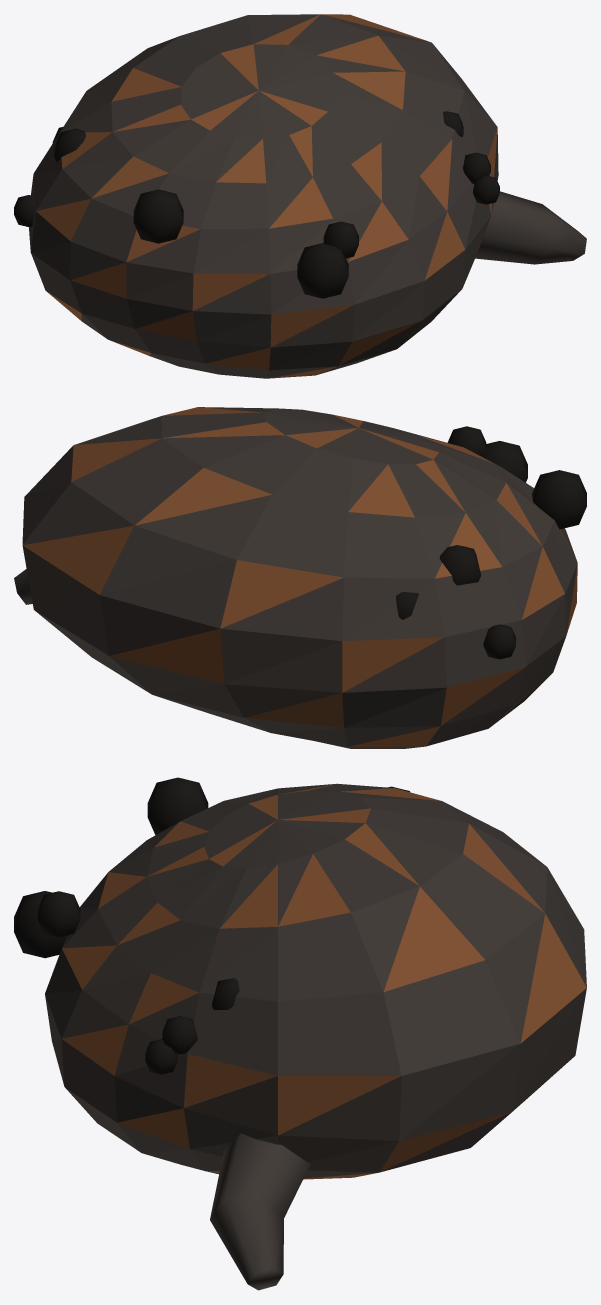
The model's file is lake-shlak-shallows-0.glb.
3 views of the same model, one above another, from view 1: azimuth 30°, elevation 25°; view 2: azimuth 150°, elevation 25°; view 3: azimuth 270°, elevation 25° (orthographic). The views are drawn at different scales.
Parts seen in each view (by area): view 1: lake-shlak-shallows-0; view 2: lake-shlak-shallows-0; view 3: lake-shlak-shallows-0.
Boxes of the visible parts, x1,y1,x2,y2 form: lake-shlak-shallows-0: (14,14,586,378); lake-shlak-shallows-0: (14,407,586,748); lake-shlak-shallows-0: (14,777,586,1290).
Bounding box in the file's own units: 0.2305 × 0.1177 × 0.1842.
